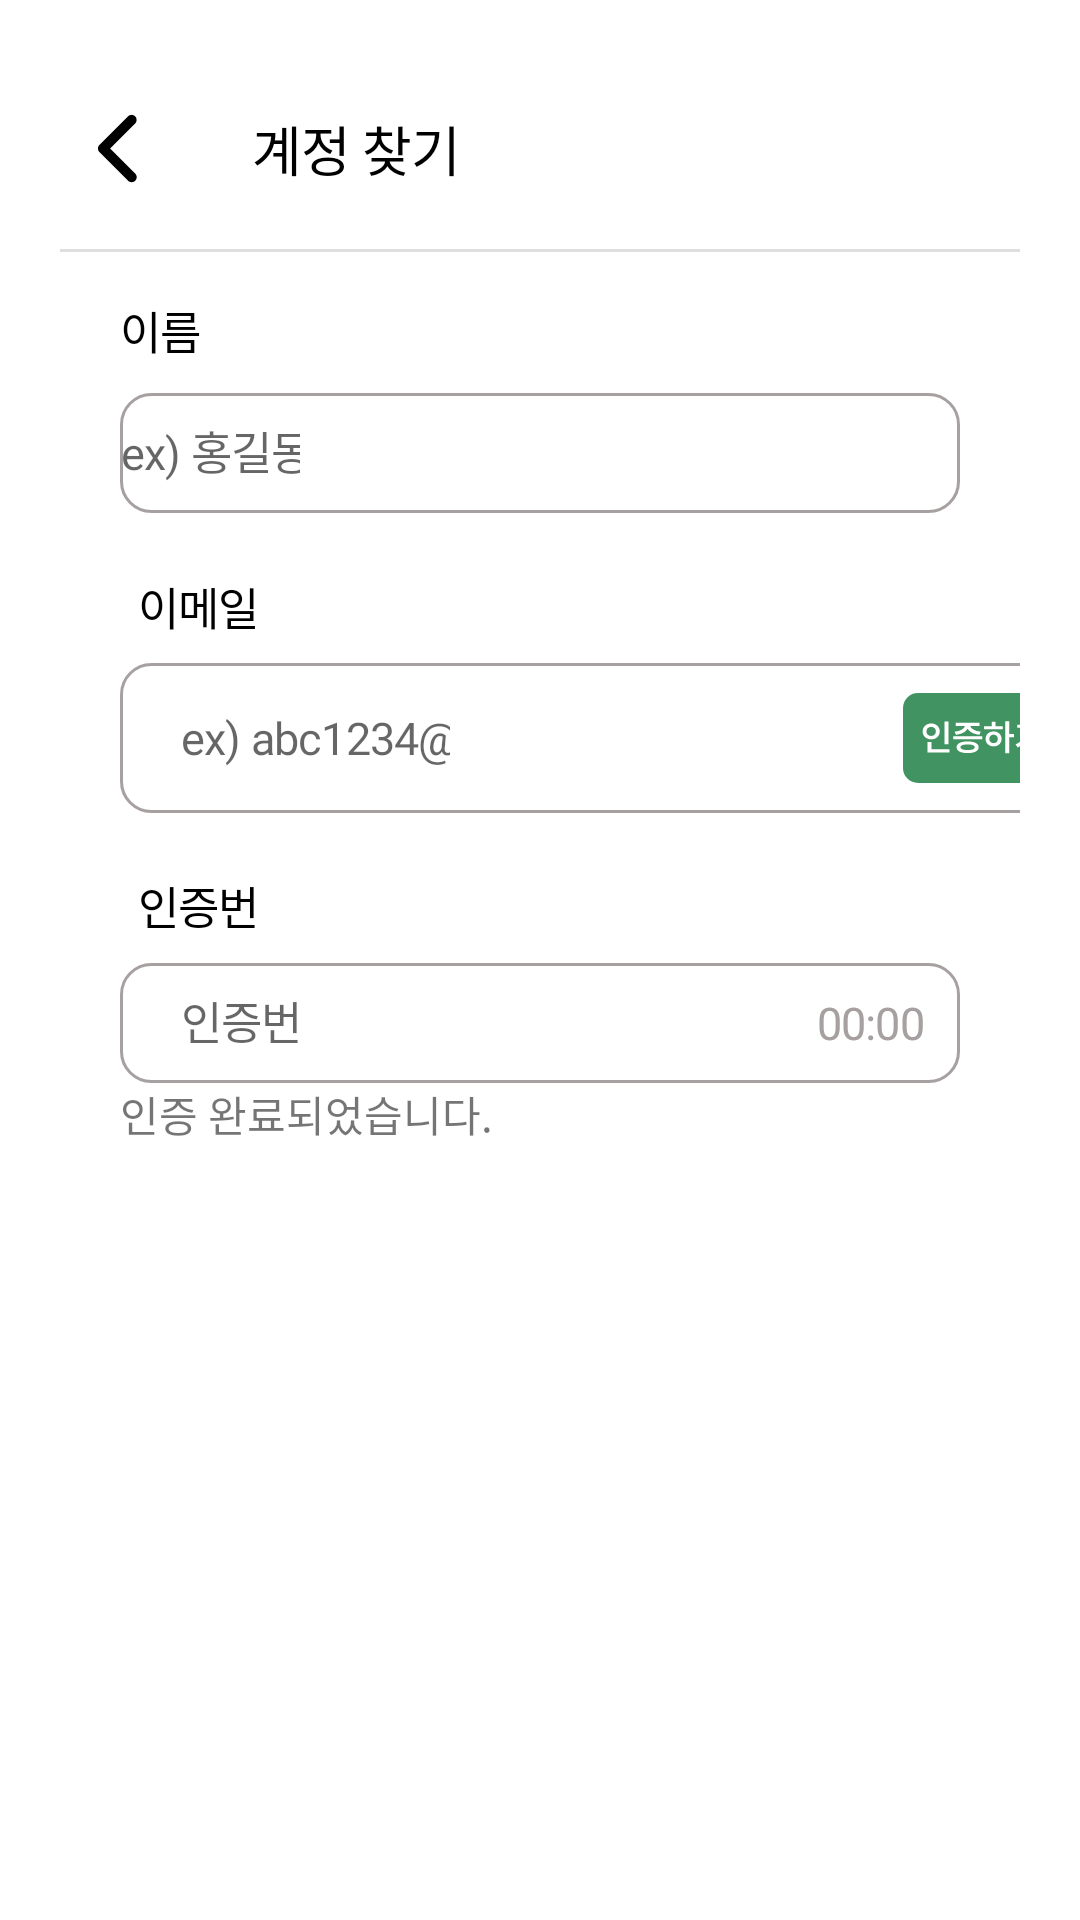

Where icons sit on this 1080×1920 app screen, as (x1, y1, x2, y2):
뒤로가기: (98, 115, 137, 183)
